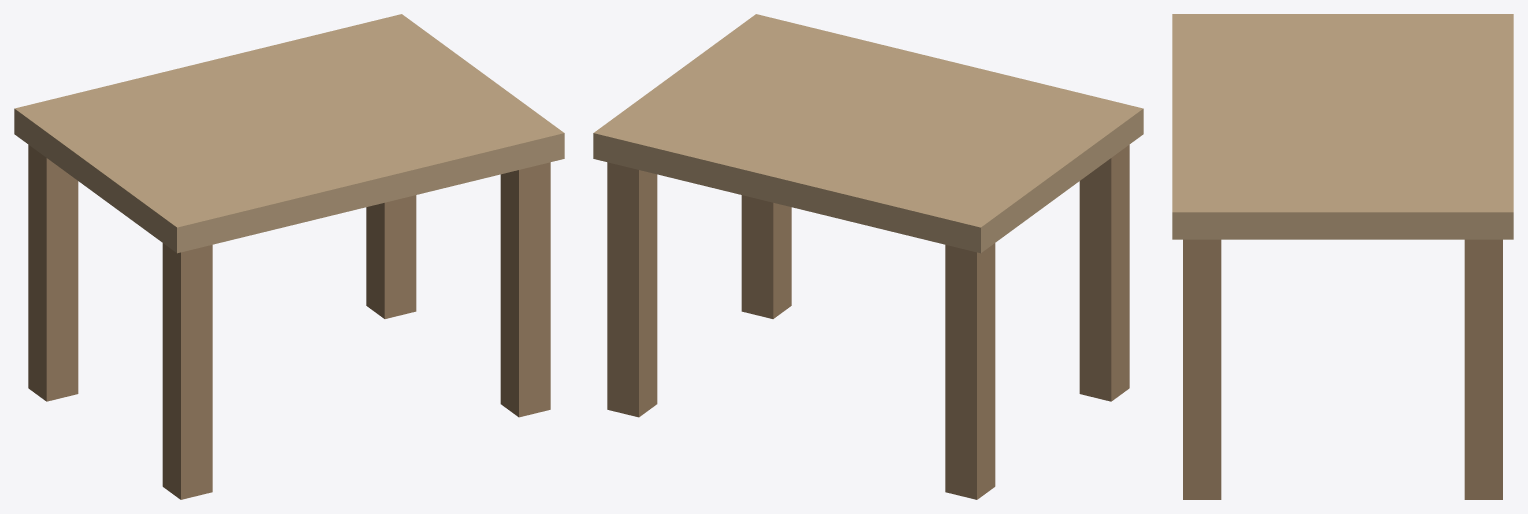
File: shop_table.glb
The picture shows the model from 3 angles, left to right: view 1: azimuth 30°, elevation 25°; view 2: azimuth 150°, elevation 25°; view 3: azimuth 270°, elevation 25°; orthographic projection. The views are drawn at different scales.
Parts seen in each view (by area): view 1: shop_table_00, shop_table_01, shop_table_02, shop_table_03, shop_table_04; view 2: shop_table_00, shop_table_03, shop_table_04, shop_table_01, shop_table_02; view 3: shop_table_00, shop_table_02, shop_table_04.
Boxes of the visible parts, <box> form: shop_table_00: <box>14,14,564,253</box>; shop_table_01: <box>162,243,212,499</box>; shop_table_02: <box>500,162,550,417</box>; shop_table_03: <box>28,145,78,401</box>; shop_table_04: <box>366,195,416,318</box>; shop_table_00: <box>593,14,1143,253</box>; shop_table_03: <box>945,243,995,499</box>; shop_table_04: <box>607,162,657,417</box>; shop_table_01: <box>1079,145,1129,401</box>; shop_table_02: <box>741,195,791,318</box>; shop_table_00: <box>1172,14,1513,239</box>; shop_table_02: <box>1183,239,1221,499</box>; shop_table_04: <box>1464,239,1502,499</box>.
Size of the model in its own units: 1.1 by 0.755 by 0.8.
